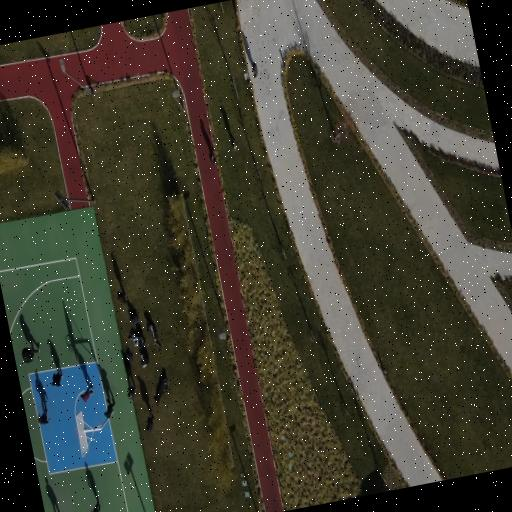person: (153, 370, 168, 403), (146, 320, 161, 349), (21, 344, 39, 363), (128, 332, 146, 346), (103, 398, 114, 418), (80, 386, 92, 401), (139, 347, 148, 367), (51, 369, 61, 386), (146, 409, 153, 431), (37, 411, 49, 423), (128, 307, 137, 323), (124, 346, 132, 364), (127, 382, 135, 398), (116, 290, 125, 304), (90, 500, 99, 511), (251, 61, 257, 77), (230, 136, 236, 150), (209, 150, 215, 164)
